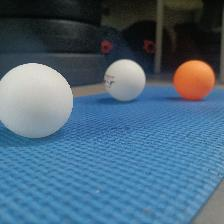WhiteBall: (1, 62, 72, 138), (104, 59, 146, 100)
YellowBall: (173, 59, 214, 99)
